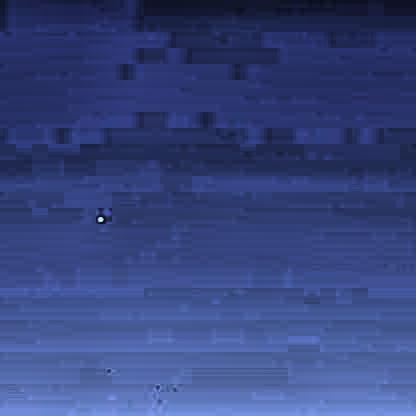golfball: (94, 211, 104, 221)
